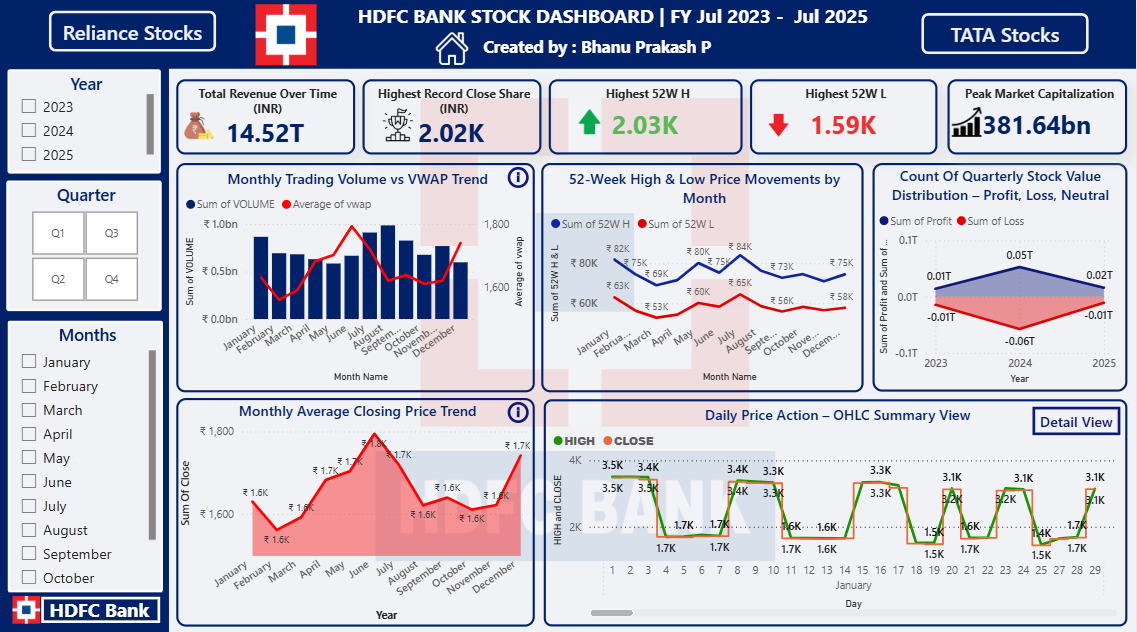

What the dashboard file says about the page in this screenshot:
{"tool":"powerbi","page":{"name":"HDFC","canvas":[1280,720],"ordinal":2},"visuals":[{"type":"image","box":[418.3,505.6,460.6,133.8],"z":0},{"type":"image","box":[469,107,380.3,381.7],"z":1000},{"type":"shape","box":[0,0,190.5,720.3],"z":2000},{"type":"shape","box":[175.7,0,1104.1,79.7],"z":3000},{"type":"textbox","box":[374.6,0,649.3,91.5],"z":4000},{"type":"image","box":[283.1,1.4,78.9,80.3],"z":5000},{"type":"card","title":"Total Revenue Over Time (INR)","fields":{"Values":["Sum(HDFC-2023_2025.VALUE)"]},"box":[198.7,90.9,201.3,84.4],"z":6000},{"type":"card","title":"Highest Record Close Share (INR)","fields":{"Values":["Max(HDFC-2023_2025.close )"]},"box":[409.1,90.9,201.3,84.4],"z":8000},{"type":"card","title":"Highest 52W H","fields":{"Values":["HDFC-2023_2025.Highest_52W_High_2"]},"box":[618.9,91.7,218.4,84.5],"z":9000},{"type":"card","title":"Highest 52W L","fields":{"Values":["HDFC-2023_2025.Lowest_52W_Low_2"]},"box":[845.7,91.7,211.1,84.5],"z":10000},{"type":"slicer","title":"Months","fields":{"Values":["HDFC-2023_2025.Month Name"]},"box":[8.6,363,175.3,306.2],"z":11000},{"type":"slicer","title":"Quarter","fields":{"Values":["HDFC-2023_2025.Quarter"]},"box":[7.4,206.2,175.3,146.9],"z":12000},{"type":"areaChart","title":"Monthly Average Closing Price Trend","fields":{"Category":["HDFC-2023_2025.Month Name"],"Y":["Avg(HDFC-2023_2025.close )"]},"box":[198.6,450.7,404.2,257.7],"z":13000},{"type":"areaChart","title":"Count Of Quarterly Stock Value Distribution – Profit, Loss, Neutral","fields":{"Category":["HDFC-2023_2025.Year"],"Y":["Sum(HDFC-2023_2025.Profit Per Day)","Sum(HDFC-2023_2025.Loss Per Day)"]},"box":[982.5,186.2,287.5,257.5],"z":14000},{"type":"lineStackedColumnComboChart","title":"Monthly Trading Volume vs VWAP Trend","fields":{"Y2":["Avg(HDFC-2023_2025.vwap )"],"Category":["HDFC-2023_2025.Month Name"],"Y":["Sum(HDFC-2023_2025.VOLUME )"]},"box":[199.1,185.8,404.2,258.2],"z":15000},{"type":"lineChart","title":"52-Week High & Low Price Movements by Month","fields":{"Y":["Sum(HDFC-2023_2025.52W H )","Sum(HDFC-2023_2025.52W L )"],"Category":["HDFC-2023_2025.Month Name"]},"box":[610.5,185.8,363.1,258.2],"z":16000},{"type":"card","title":"Peak Market Capitalization","fields":{"Values":["Max(HDFC-2023_2025.VALUE )"]},"box":[1067.7,91.7,202.7,84.5],"z":17000},{"type":"image","box":[190.1,122.5,67.6,42.3],"z":18000},{"type":"image","box":[1067.6,102.8,43.7,73.2],"z":19000},{"type":"image","box":[827.2,81.5,74.1,123.5],"z":20000},{"type":"image","box":[639.5,75.3,80.2,129.6],"z":21000},{"type":"lineChart","title":"Daily Price Action – OHLC Summary View","fields":{"Y":["Sum(HDFC-2023_2025.HIGH )","Sum(HDFC-2023_2025.close )"],"Category":["HDFC-2023_2025.Date.Variation.Date Hierarchy.Month","HDFC-2023_2025.Date.Variation.Date Hierarchy.Day"]},"box":[612.7,452.1,657.7,256.3],"z":22000},{"type":"actionButton","box":[567,450,43.4,32.6],"z":23000},{"type":"actionButton","box":[567,185.8,36.2,32.6],"z":24000},{"type":"image","box":[485.2,33.3,49.4,46.9],"z":25000},{"type":"textbox","box":[50.7,669,142.3,50.7],"z":26000},{"type":"image","box":[8.5,669,42.3,40.8],"z":27000},{"type":"shape","box":[46,674.6,134,29.6],"z":28000},{"type":"actionButton","box":[54.9,14.1,188.7,46.5],"z":29000},{"type":"actionButton","box":[1038,16.9,188.7,46.5],"z":30000},{"type":"slicer","title":"Year","fields":{"Values":["HDFC-2023_2025.Year"]},"box":[8.6,80.2,172.8,117.3],"z":31000},{"type":"actionButton","box":[1163,460,99,32],"z":32000},{"type":"image","box":[418.3,116.9,60.6,52.1],"z":33000}]}

Visuals, with their boxes in screenshot pixels (x1, y1, x2, y2), scaled from the page's 1280x720 canvas onto the 1137x632 screenshot:
image: {"left": 372, "top": 444, "right": 781, "bottom": 561}
image: {"left": 417, "top": 94, "right": 754, "bottom": 429}
shape: {"left": 0, "top": 0, "right": 169, "bottom": 631}
shape: {"left": 156, "top": 0, "right": 1136, "bottom": 70}
textbox: {"left": 333, "top": 0, "right": 910, "bottom": 80}
image: {"left": 251, "top": 1, "right": 322, "bottom": 72}
"Total Revenue Over Time (INR)" card: {"left": 177, "top": 80, "right": 355, "bottom": 154}
"Highest Record Close Share (INR)" card: {"left": 363, "top": 80, "right": 542, "bottom": 154}
"Highest 52W H" card: {"left": 550, "top": 80, "right": 744, "bottom": 155}
"Highest 52W L" card: {"left": 751, "top": 80, "right": 939, "bottom": 155}
"Months" slicer: {"left": 8, "top": 319, "right": 163, "bottom": 587}
"Quarter" slicer: {"left": 7, "top": 181, "right": 162, "bottom": 310}
"Monthly Average Closing Price Trend" areaChart: {"left": 176, "top": 396, "right": 535, "bottom": 622}
"Count Of Quarterly Stock Value Distribution – Profit, Loss, Neutral" areaChart: {"left": 873, "top": 163, "right": 1128, "bottom": 389}
"Monthly Trading Volume vs VWAP Trend" lineStackedColumnComboChart: {"left": 177, "top": 163, "right": 536, "bottom": 390}
"52-Week High & Low Price Movements by Month" lineChart: {"left": 542, "top": 163, "right": 865, "bottom": 390}
"Peak Market Capitalization" card: {"left": 948, "top": 80, "right": 1128, "bottom": 155}
image: {"left": 169, "top": 108, "right": 229, "bottom": 145}
image: {"left": 948, "top": 90, "right": 987, "bottom": 154}
image: {"left": 735, "top": 72, "right": 801, "bottom": 180}
image: {"left": 568, "top": 66, "right": 639, "bottom": 180}
"Daily Price Action – OHLC Summary View" lineChart: {"left": 544, "top": 397, "right": 1128, "bottom": 622}
actionButton: {"left": 504, "top": 395, "right": 542, "bottom": 424}
actionButton: {"left": 504, "top": 163, "right": 536, "bottom": 192}
image: {"left": 431, "top": 29, "right": 475, "bottom": 70}
textbox: {"left": 45, "top": 587, "right": 171, "bottom": 631}
image: {"left": 8, "top": 587, "right": 45, "bottom": 623}
shape: {"left": 41, "top": 592, "right": 160, "bottom": 618}
actionButton: {"left": 49, "top": 12, "right": 216, "bottom": 53}
actionButton: {"left": 922, "top": 15, "right": 1090, "bottom": 56}
"Year" slicer: {"left": 8, "top": 70, "right": 161, "bottom": 173}
actionButton: {"left": 1033, "top": 404, "right": 1121, "bottom": 432}
image: {"left": 372, "top": 103, "right": 425, "bottom": 148}
